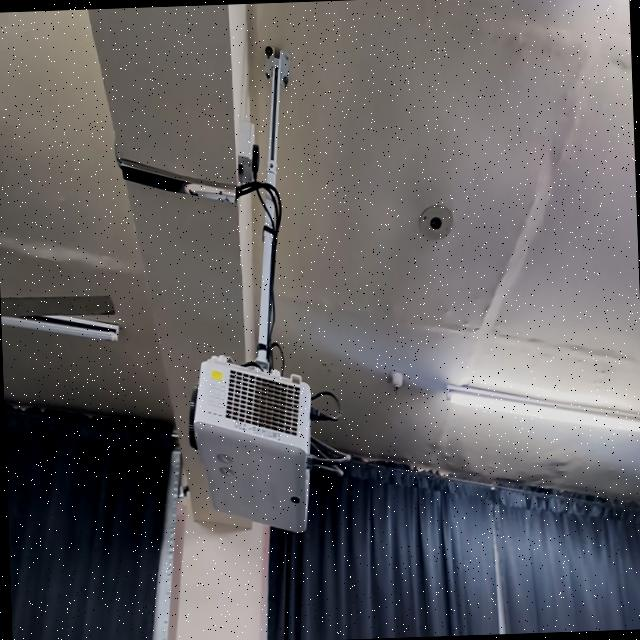Light: (444, 383, 640, 432), (0, 313, 117, 339)
Projector: (192, 356, 309, 530)
